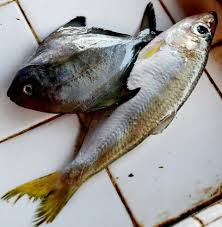Ikan Bawal: (6, 13, 165, 117)
